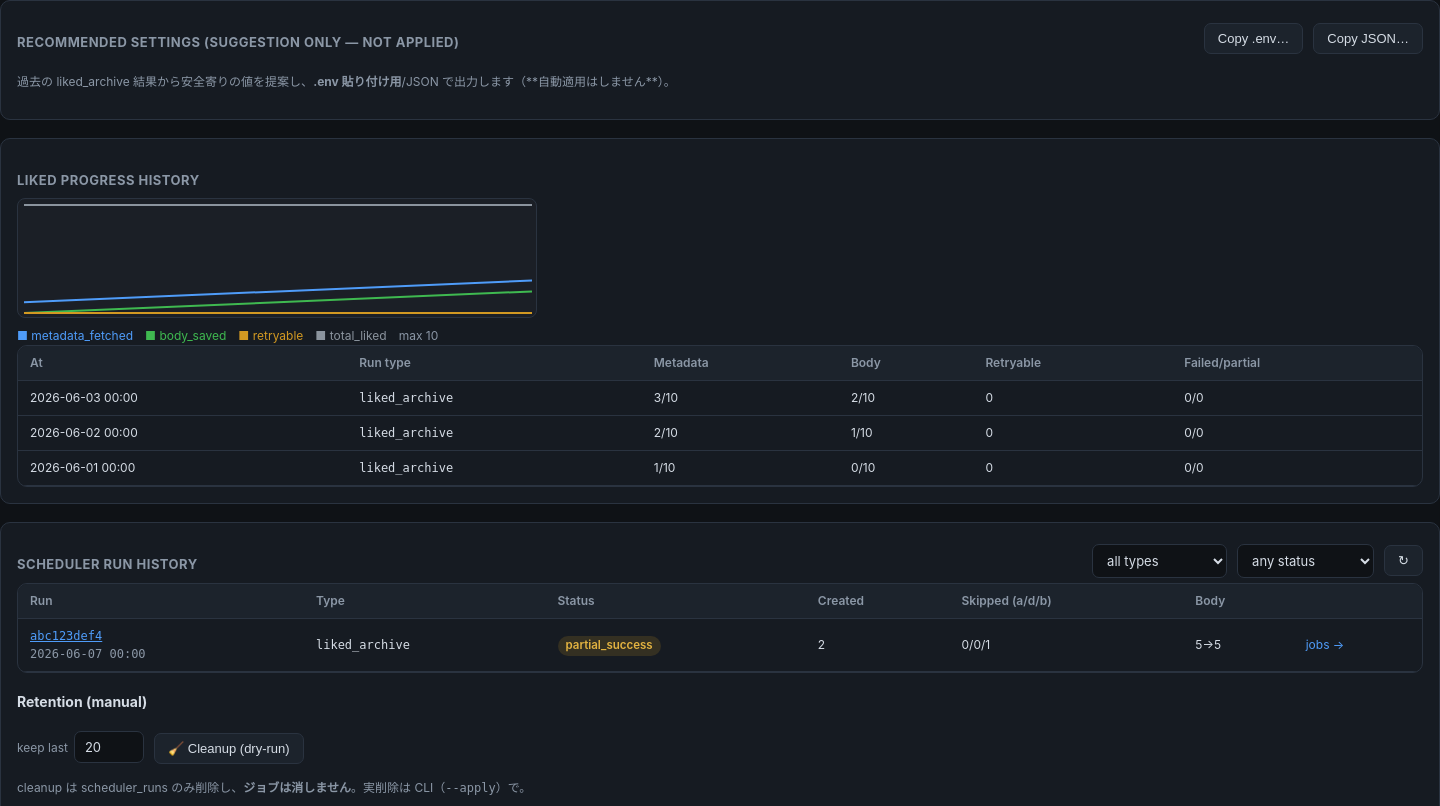
Test case: Phase 7F scheduler history graph + export › exports a copy-paste .env snippet (suggestion only, no auto-apply)
Expected: the heading "Recommended settings (suggestion only — not applied)" is shown, [17,33,459,52]
Click the button "Copy .env…".
click(1254, 39)  # box [1204,23,1303,54]
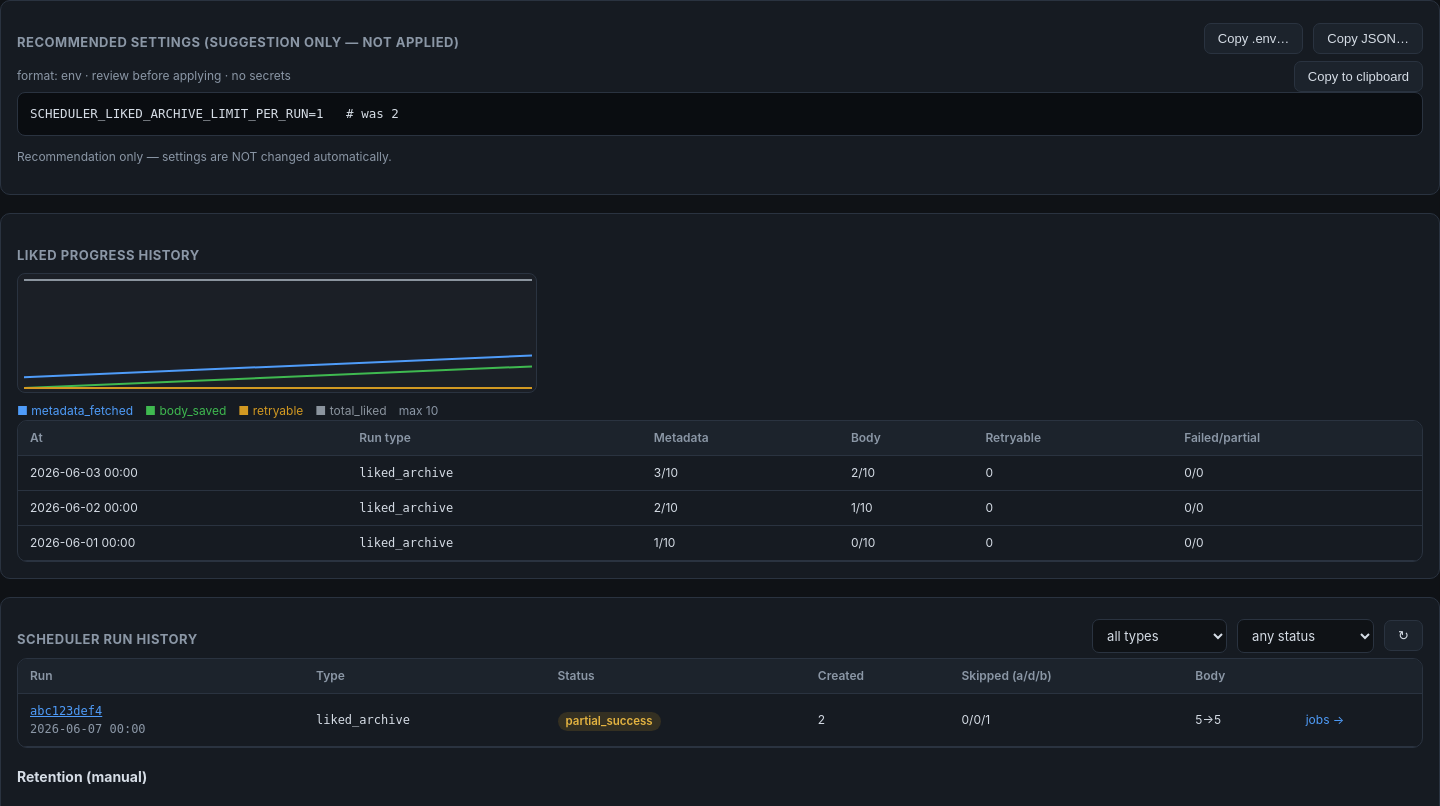
Now the text "SCHEDULER_LIKED_ARCHIVE_LIMIT_PER_RUN=1 # was 2" is shown, box [17,92,1423,136]
Now the text "NOT changed automatically" is shown, box [17,149,392,164]
